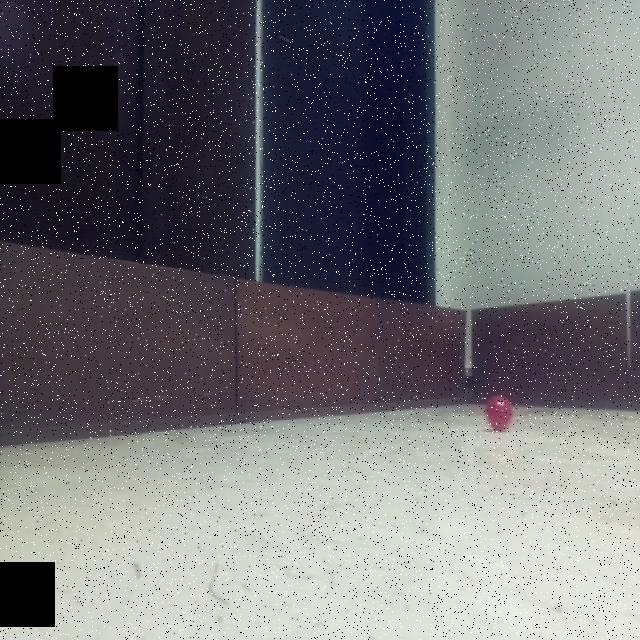ball: (485, 392, 517, 436)
